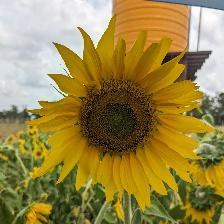sunflower: (40, 27, 198, 198)
